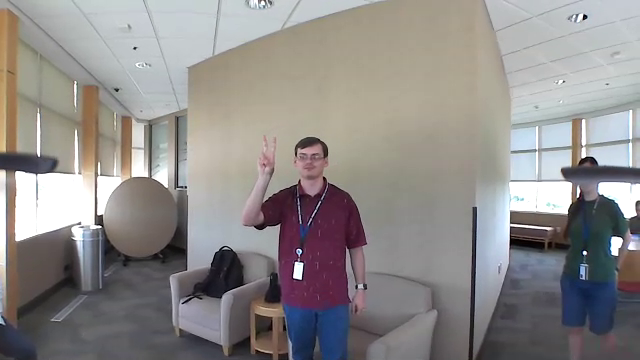peace: (251, 131, 284, 178)
